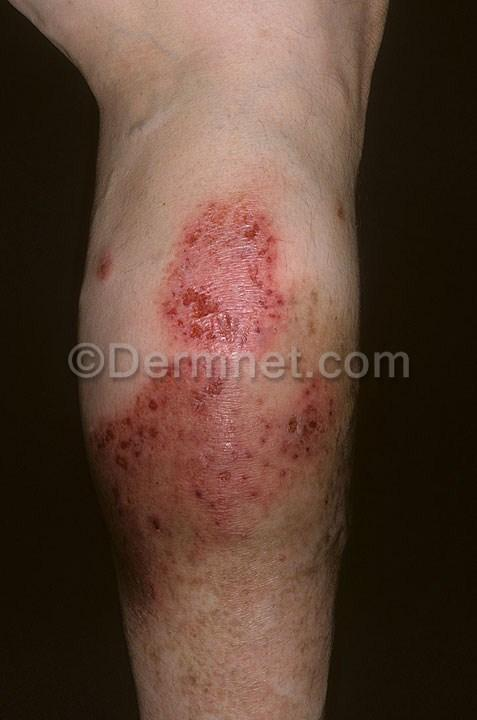Eczema: (94, 384, 341, 595), (172, 214, 279, 355)
